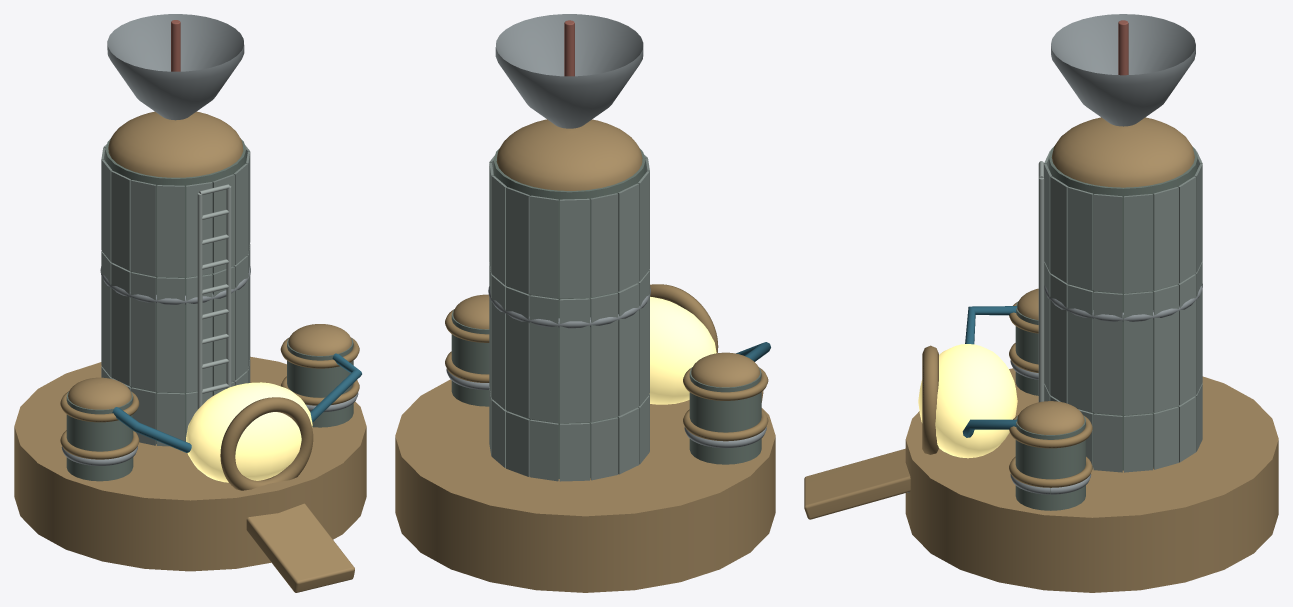
3 views of the same model, side by side, from view 1: azimuth 30°, elevation 25°; view 2: azimuth 150°, elevation 25°; view 3: azimuth 270°, elevation 25° (orthographic). The views are drawn at different scales.
Parts seen in each view (by area): view 1: Foundation drum, Teleporter tower service panels, Open collector bowl, Transfer energy core, Tower crown, Transfer ramp, Transfer aperture pressure bezel, Cylindrical tower.001, Cylindrical tower.002, Cylindrical tower, Tower crown.001, Tower crown.002 (+11 smaller); view 2: Foundation drum, Teleporter tower service panels, Open collector bowl, Tower crown, Transfer energy core, Cylindrical tower.001, Cylindrical tower, Cylindrical tower.002, Tower crown.001, Transfer aperture pressure bezel, Tower crown.002, Tower seam (+5 smaller); view 3: Foundation drum, Teleporter tower service panels, Open collector bowl, Tower crown, Transfer energy core, Transfer ramp, Cylindrical tower.002, Cylindrical tower, Tower crown.002, Transfer aperture pressure bezel, Service ladder rail.001, Cylindrical tower.001 (+4 smaller).
Part boxes in pixels (x1,y1,x2,y2): Foundation drum: [14, 356, 366, 571]; Teleporter tower service panels: [101, 144, 250, 446]; Open collector bowl: [107, 14, 244, 120]; Transfer energy core: [186, 382, 312, 482]; Tower crown: [108, 111, 243, 177]; Transfer ramp: [246, 503, 354, 592]; Transfer aperture pressure bezel: [220, 397, 313, 490]; Cylindrical tower.001: [66, 391, 133, 481]; Cylindrical tower.002: [287, 338, 353, 427]; Cylindrical tower: [105, 138, 246, 443]; Tower crown.001: [68, 377, 131, 409]; Tower crown.002: [288, 324, 351, 355]; Foundation drum: [395, 379, 775, 592]; Teleporter tower service panels: [489, 154, 649, 481]; Open collector bowl: [495, 14, 643, 128]; Tower crown: [496, 119, 642, 190]; Transfer energy core: [649, 296, 716, 404]; Cylindrical tower.001: [689, 367, 761, 464]; Cylindrical tower: [493, 148, 645, 478]; Cylindrical tower.002: [451, 310, 489, 406]; Tower crown.001: [691, 352, 759, 387]; Transfer aperture pressure bezel: [650, 284, 718, 353]; Tower crown.002: [453, 294, 489, 329]; Tower seam: [488, 286, 650, 328]; Foundation drum: [905, 368, 1278, 592]; Teleporter tower service panels: [1044, 150, 1202, 472]; Open collector bowl: [1051, 14, 1195, 126]; Tower crown: [1051, 117, 1194, 187]; Transfer energy core: [918, 344, 1017, 458]; Transfer ramp: [804, 448, 910, 519]; Cylindrical tower.002: [1015, 416, 1085, 510]; Cylindrical tower: [1048, 147, 1197, 470]; Tower crown.002: [1017, 401, 1084, 434]; Transfer aperture pressure bezel: [922, 345, 938, 454]; Service ladder rail.001: [1038, 178, 1044, 402]; Cylindrical tower.001: [1015, 302, 1038, 395].
Bounding box in the file's own units: 1.8 × 2.62 × 2.29.
